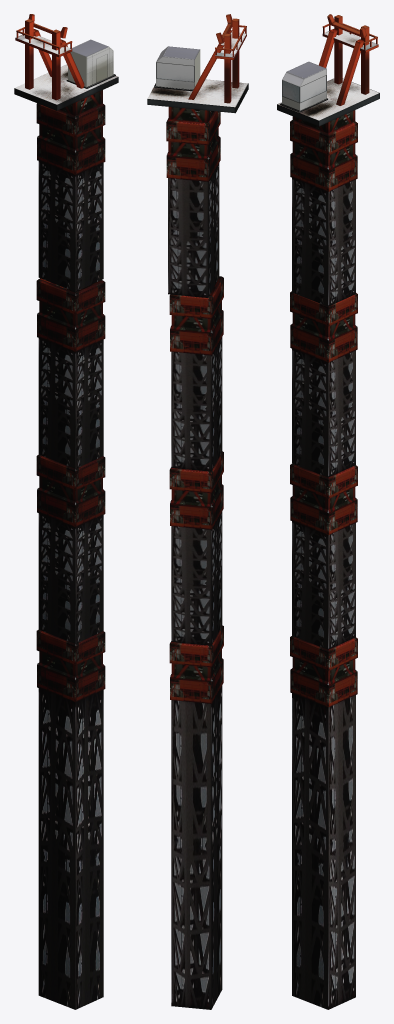
Rendered from kure-n2-dodai.obj.
3 renders of one model, left to right at view 1: azimuth 90°, elevation 25°; view 2: azimuth 210°, elevation 25°; view 3: azimuth 270°, elevation 25°, orthographic.
Bounding box in the file's own units: 13.99 × 143 × 13.75.
Materials: 1 (1 with a texture image).
